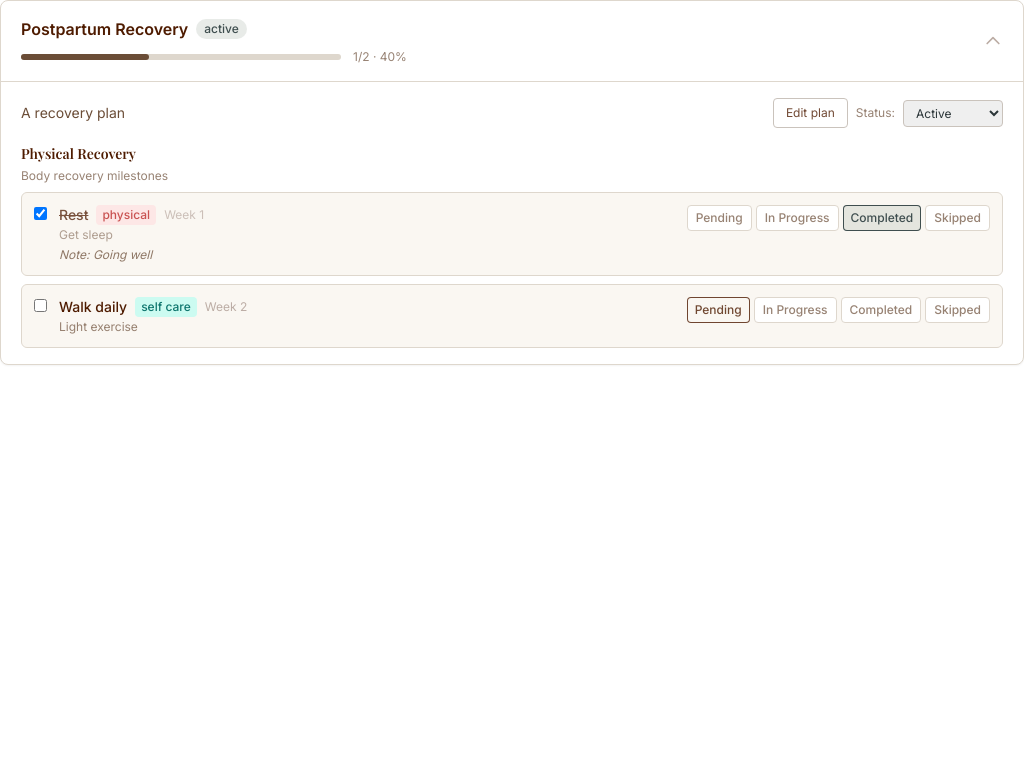
Test: CarePlanCard › can add a section in edit mode
Click the button "Edit plan": (810, 113) [773, 98, 848, 128]
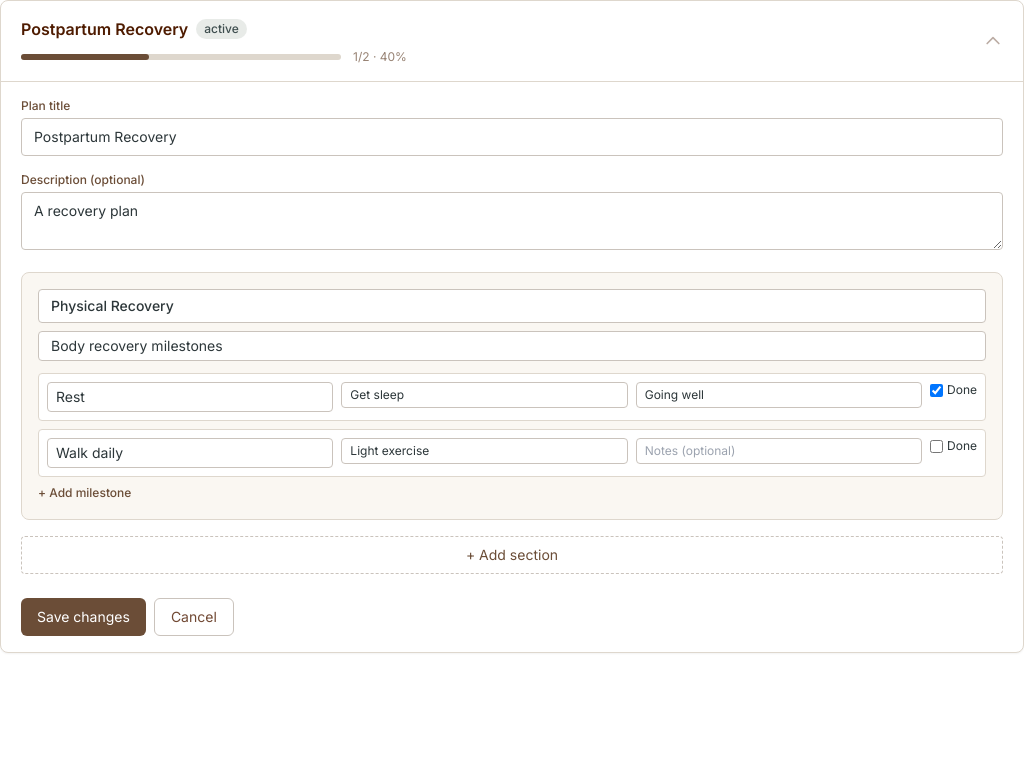
Click the button "+ Add section": (512, 555) [21, 536, 1003, 574]
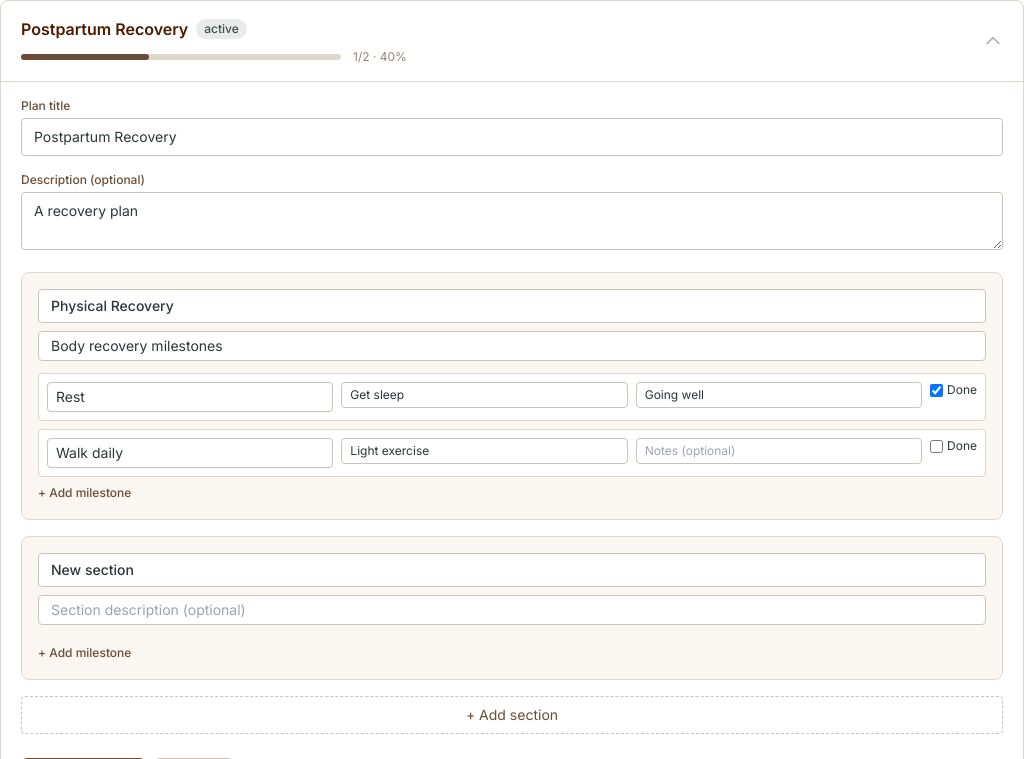
Now the 9th field showing "New section" is shown, box [38, 553, 986, 587]
